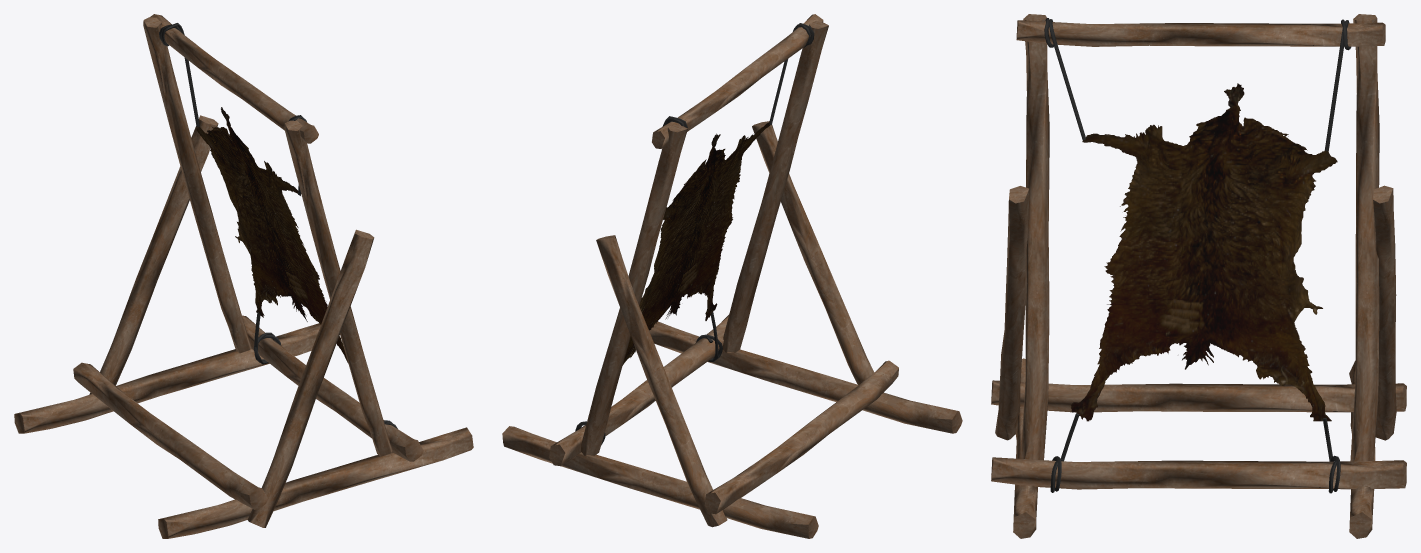
The model's file is SM_Deri_2.fbx.
The picture shows the model from 3 angles, left to right: view 1: azimuth 30°, elevation 25°; view 2: azimuth 150°, elevation 25°; view 3: azimuth 270°, elevation 25°; orthographic projection. The views are drawn at different scales.
Parts seen in each view (by area): view 1: OBJ_Deri_2; view 2: OBJ_Deri_2; view 3: OBJ_Deri_2.
Boxes of the visible parts, <box> form: OBJ_Deri_2: <box>14,14,473,538</box>; OBJ_Deri_2: <box>502,14,962,538</box>; OBJ_Deri_2: <box>991,14,1406,538</box>.
Bounding box in the file's own units: 117 × 140 × 117.
